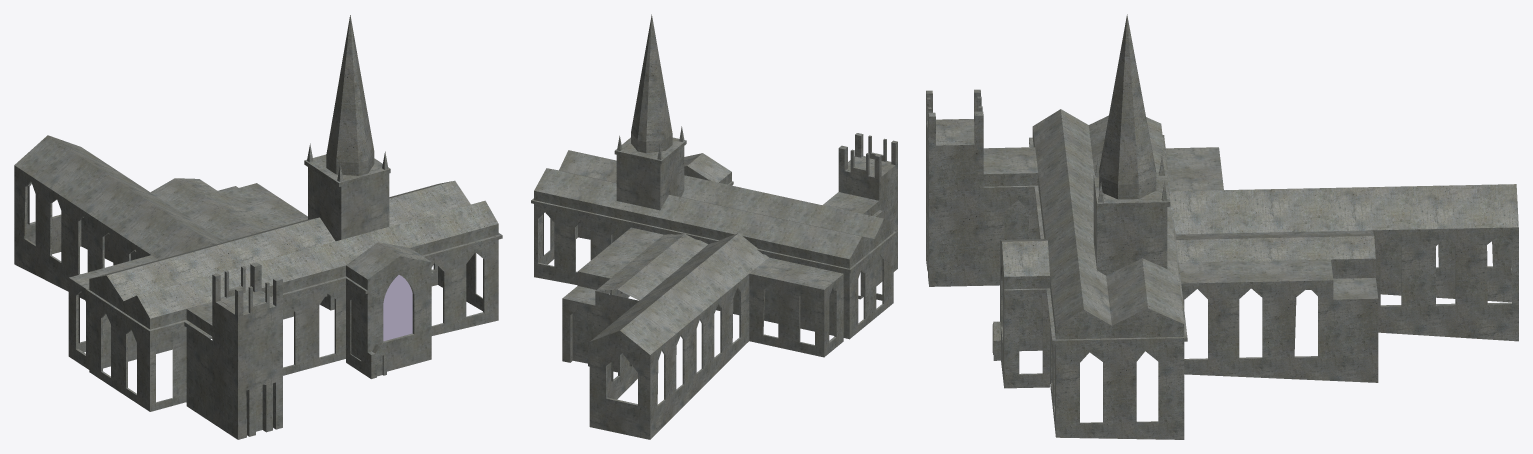
Rendered from Sheffield Cathedral.fbx.
3 renders of one model, left to right at view 1: azimuth 30°, elevation 25°; view 2: azimuth 150°, elevation 25°; view 3: azimuth 270°, elevation 25°, orthographic. The views are drawn at different scales.
Parts seen in each view (by area): view 1: Sheffield_Cathedral; view 2: Sheffield_Cathedral; view 3: Sheffield_Cathedral.
Boxes of the visible parts, x1,y1,x2,y2 form: Sheffield_Cathedral: (14,15,502,439); Sheffield_Cathedral: (531,14,897,439); Sheffield_Cathedral: (926,14,1518,439).
Bounding box in the file's own units: 7587 × 6571 × 9230.
